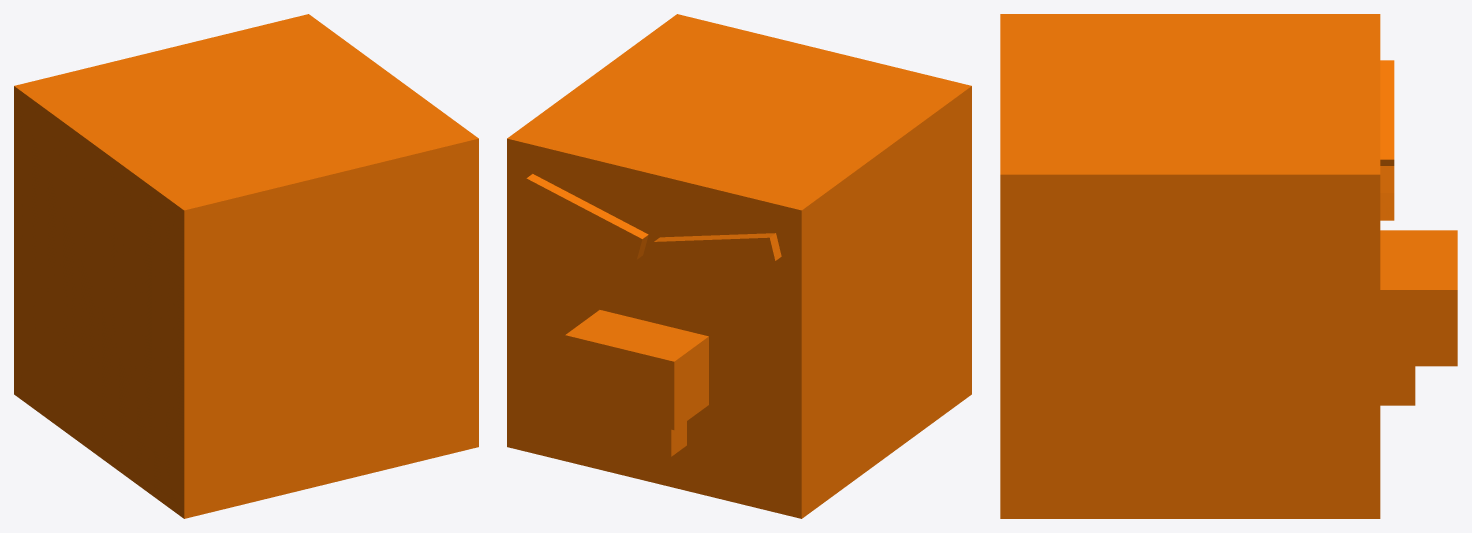
File: bomb_lemon_orange.obj
3 views of the same model, side by side, from view 1: azimuth 30°, elevation 25°; view 2: azimuth 150°, elevation 25°; view 3: azimuth 270°, elevation 25° (orthographic). The views are drawn at different scales.
Parts seen in each view (by area): view 1: cube; view 2: cube; view 3: cube.
Boxes of the visible parts, x1,y1,x2,y2 form: cube: (14, 14, 478, 518); cube: (507, 14, 971, 518); cube: (1000, 14, 1457, 518).
Size of the model in its own units: 1.69 by 1.69 by 2.03.
